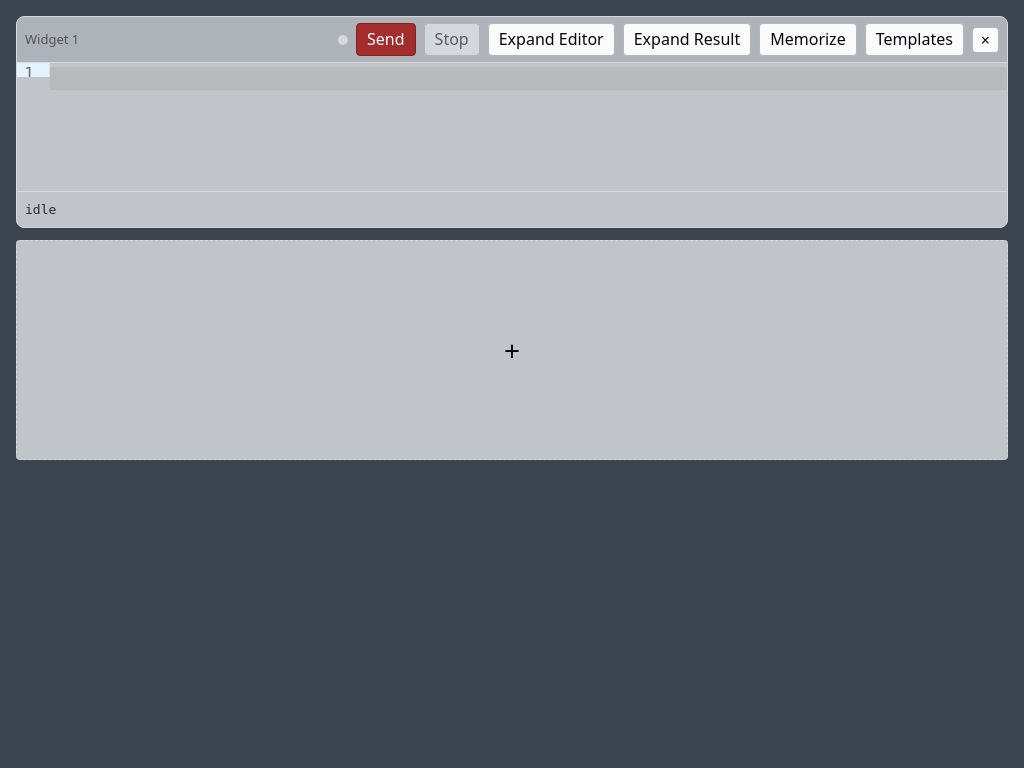
Test: Grid › shows the banner again if a later injection fails with a connection-shaped error
Expected: the text "Can't reach dcs-serve" is not shown
Click the button "Send": point(386, 40) top-left (356, 23), bottom-right (416, 56)
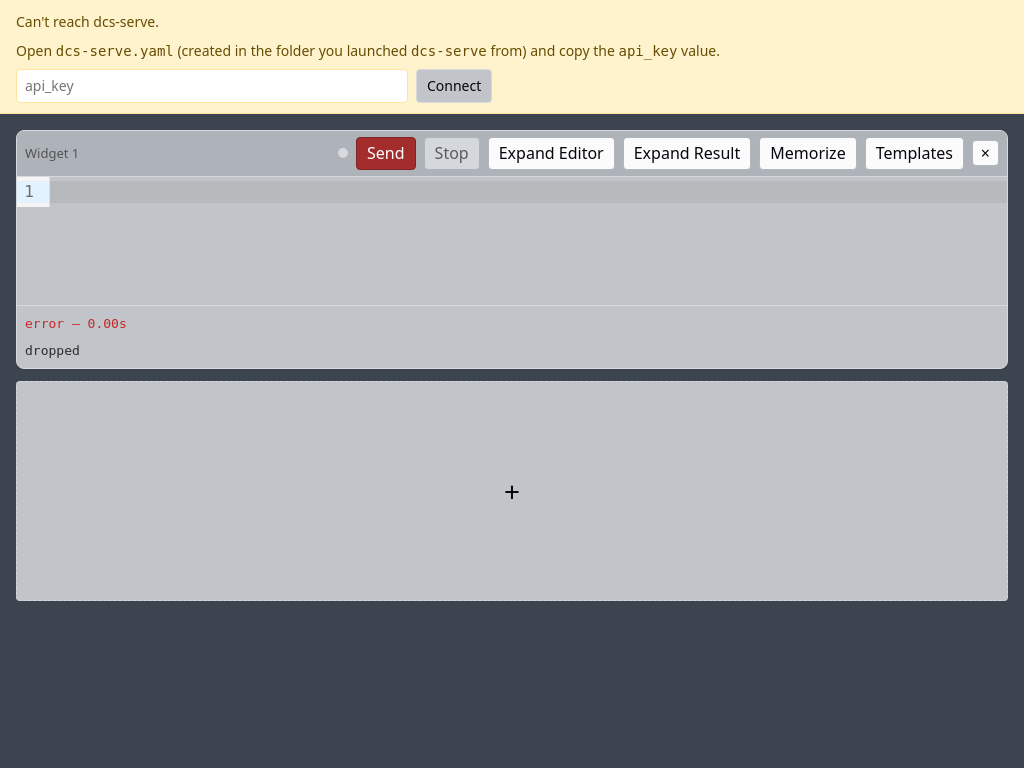
Now the text "Can't reach dcs-serve." is shown, box top-left (16, 12), bottom-right (159, 31)
